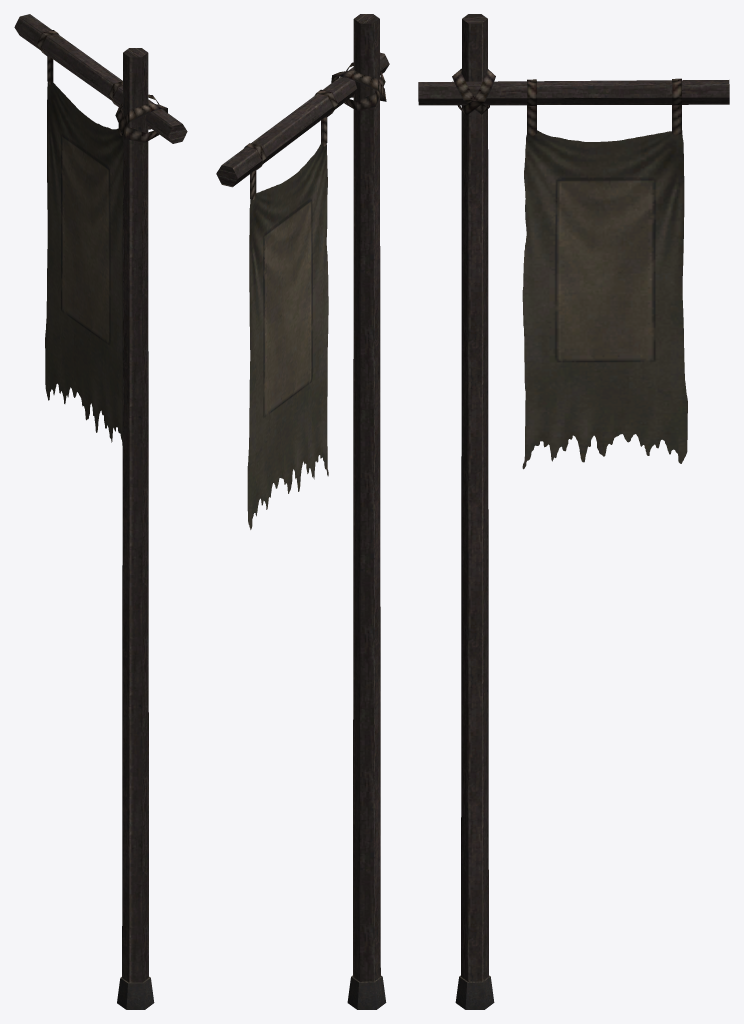
3 renders of one model, left to right at view 1: azimuth 30°, elevation 25°; view 2: azimuth 150°, elevation 25°; view 3: azimuth 270°, elevation 25°, orthographic. The views are drawn at different scales.
Parts seen in each view (by area): view 1: qingmo_obj_045 [10484300]; view 2: qingmo_obj_045 [10484300]; view 3: qingmo_obj_045 [10484300].
Part boxes in pixels (<box>): qingmo_obj_045 [10484300]: <box>14,14,187,1009</box>; qingmo_obj_045 [10484300]: <box>216,14,389,1009</box>; qingmo_obj_045 [10484300]: <box>418,14,729,1009</box>.
Bounding box in the file's own units: 3.02 × 17.39 × 60.66.
1 material, 1 textured.
